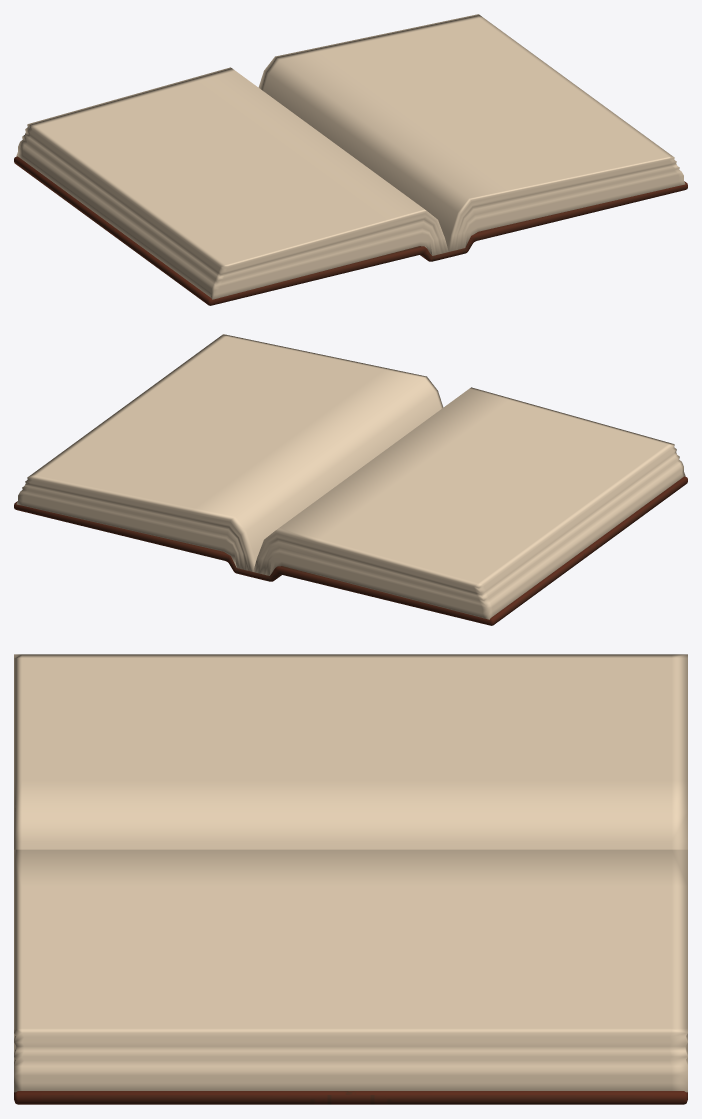
File: quest_log2 (added shapekeys).glb
3 renders of one model, top to bottom at view 1: azimuth 30°, elevation 25°; view 2: azimuth 150°, elevation 25°; view 3: azimuth 270°, elevation 25°, orthographic. The views are drawn at different scales.
Visible parts, largest first — view 1: Pages, Book cover; view 2: Pages, Book cover; view 3: Pages, Book cover.
Part boxes in pixels (<box>): Pages: <box>16,14,685,299</box>; Book cover: <box>14,156,687,305</box>; Pages: <box>16,334,685,619</box>; Book cover: <box>14,476,687,625</box>; Pages: <box>14,654,687,1092</box>; Book cover: <box>14,1091,687,1104</box>.
Bounding box in the file's own units: 0.5585 × 0.0591 × 0.3954.
Materials: 2 (1 with a texture image).
